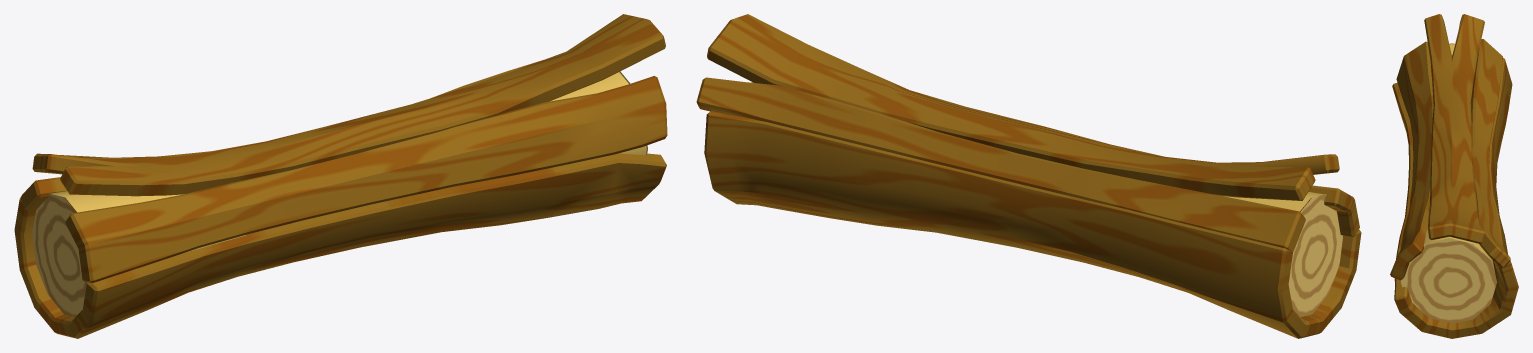
Rendered from log.fbx.
3 views of the same model, side by side, from view 1: azimuth 30°, elevation 25°; view 2: azimuth 150°, elevation 25°; view 3: azimuth 270°, elevation 25° (orthographic). The views are drawn at different scales.
Parts seen in each view (by area): view 1: log_inside.001, log_inside.002; view 2: log_inside.001, log_inside.002; view 3: log_inside.001, log_inside.002.
Boxes of the visible parts, box(x1,y1,x2,y2) form: log_inside.001: box(14, 14, 667, 338); log_inside.002: box(32, 71, 647, 316); log_inside.001: box(696, 14, 1361, 338); log_inside.002: box(751, 82, 1343, 317); log_inside.001: box(1390, 14, 1518, 338); log_inside.002: box(1401, 43, 1496, 323).
Size of the model in its own units: 11784 by 3242 by 3005.
